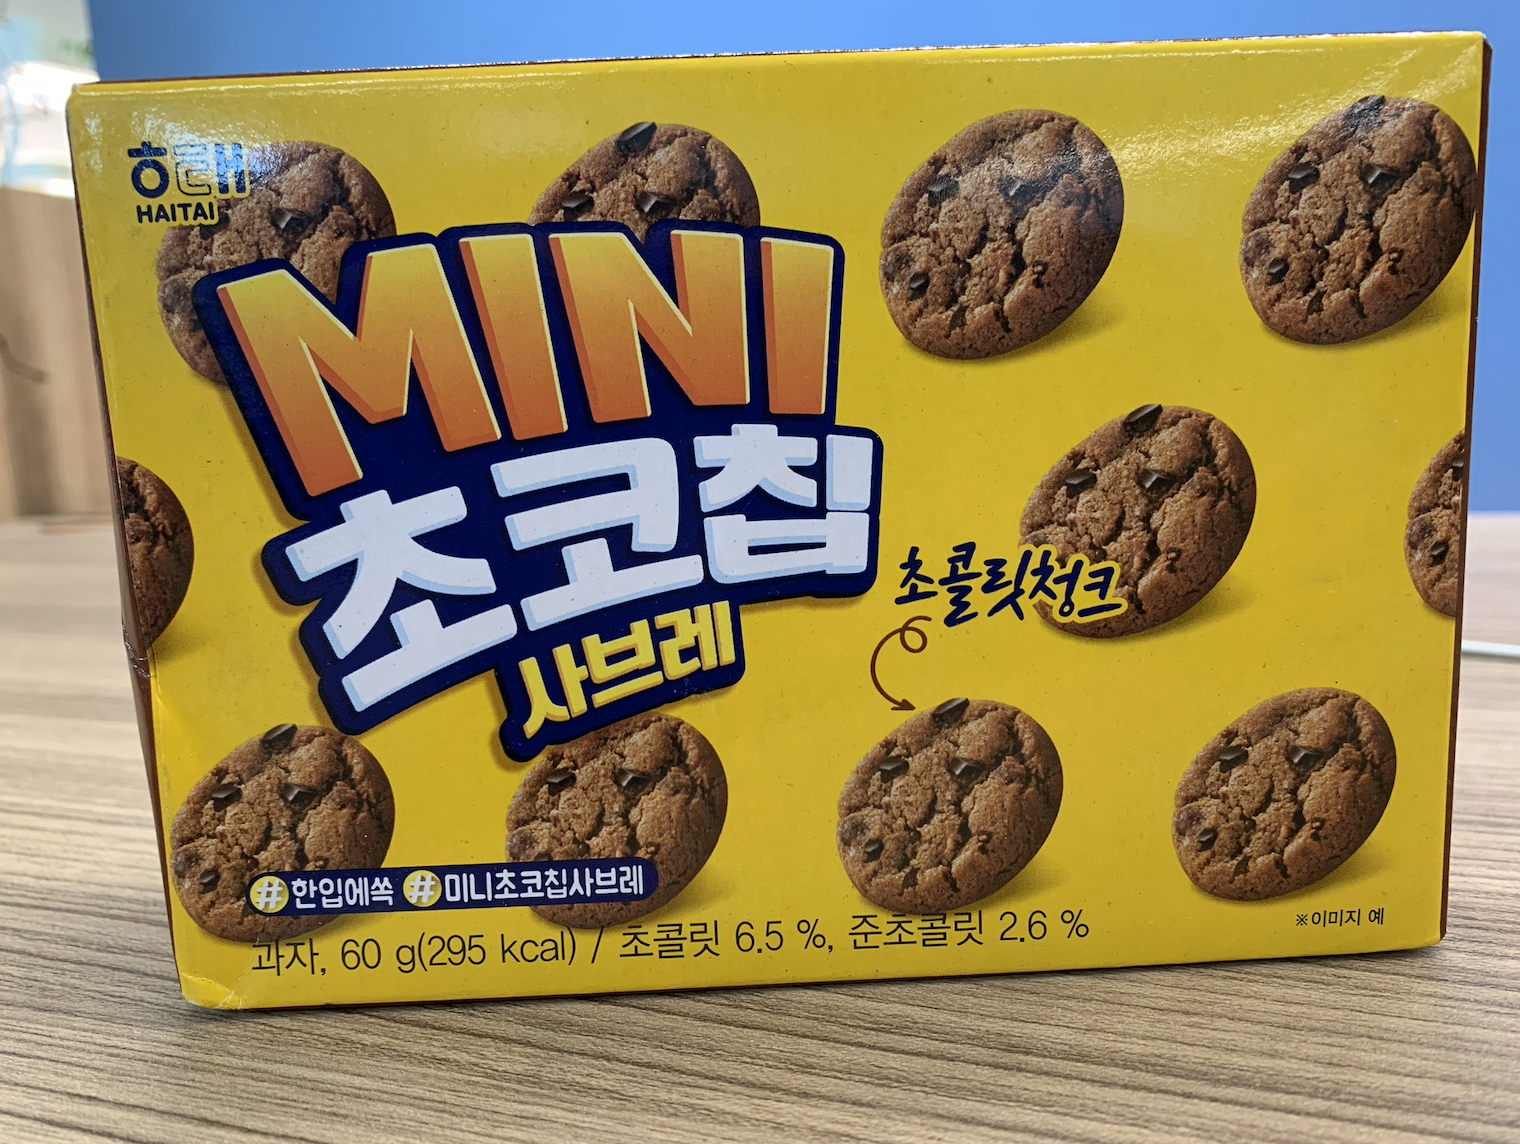cookies_1g-99g: (138, 109, 1399, 961)
